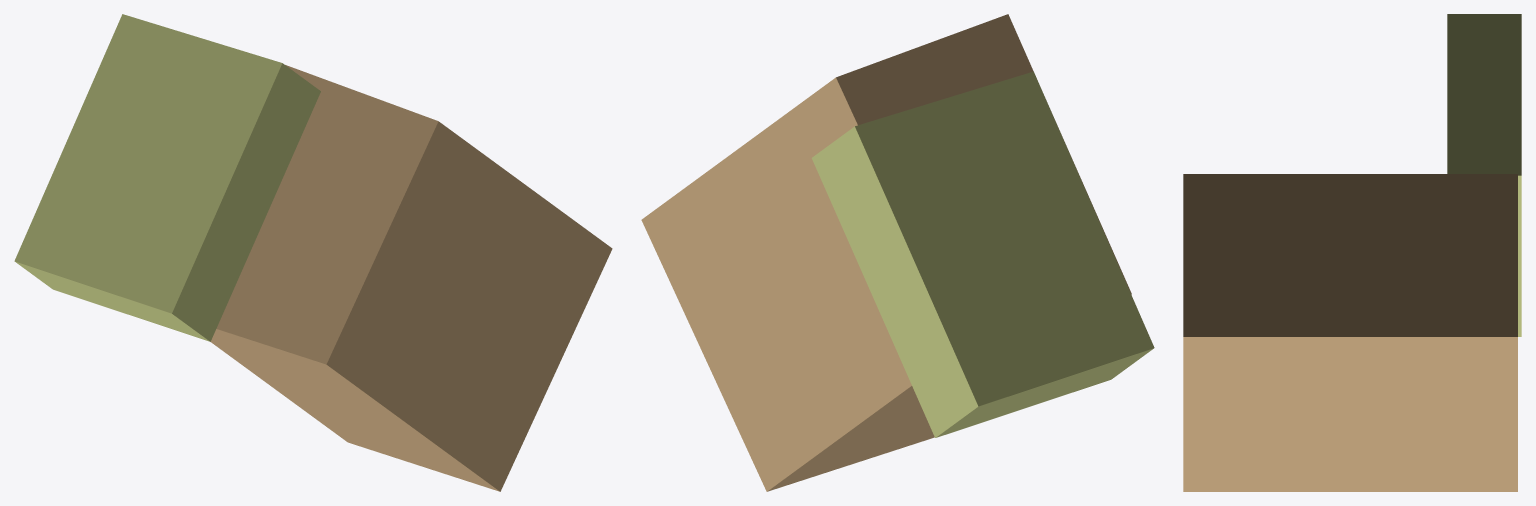
3 renders of one model, left to right at view 1: azimuth 30°, elevation 25°; view 2: azimuth 150°, elevation 25°; view 3: azimuth 270°, elevation 25°, orthographic. The views are drawn at different scales.
Parts seen in each view (by area): view 1: 0_1_0_0_1_0_0_0_1; view 2: 0_1_0_0_1_0_0_0_1; view 3: 0_1_0_0_1_0_0_0_1.
Part boxes in pixels (x1,y1,x2,y2): 0_1_0_0_1_0_0_0_1: [14, 14, 612, 491]; 0_1_0_0_1_0_0_0_1: [641, 14, 1154, 491]; 0_1_0_0_1_0_0_0_1: [1183, 14, 1521, 491].
Size of the model in its own units: 37.83 by 34.11 by 27.3.
